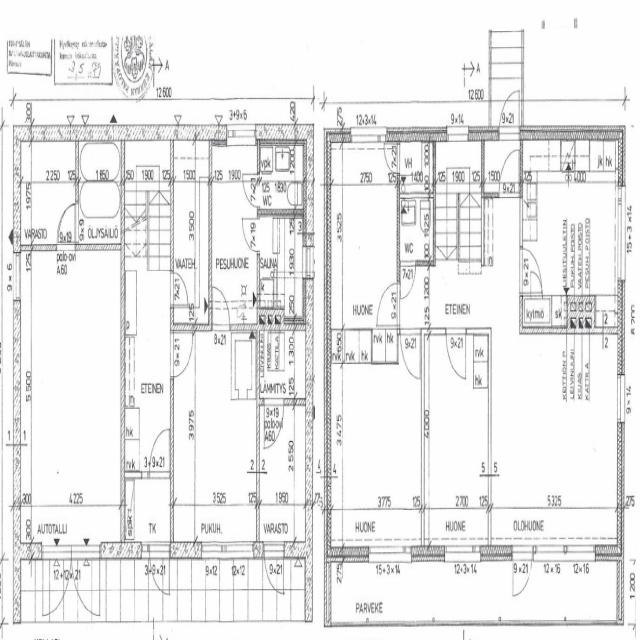door: (43, 542, 72, 624), (72, 542, 100, 624), (149, 542, 169, 604), (264, 542, 284, 602), (499, 82, 519, 142), (513, 544, 532, 603), (149, 426, 169, 479), (400, 327, 420, 379), (446, 327, 465, 379), (264, 397, 284, 446), (170, 334, 193, 376), (499, 148, 518, 198), (378, 283, 400, 324), (56, 203, 74, 251), (213, 286, 230, 330), (59, 204, 79, 241), (242, 219, 260, 252), (170, 273, 188, 304), (243, 174, 260, 206), (401, 259, 415, 296), (384, 144, 400, 173), (531, 268, 543, 300)
